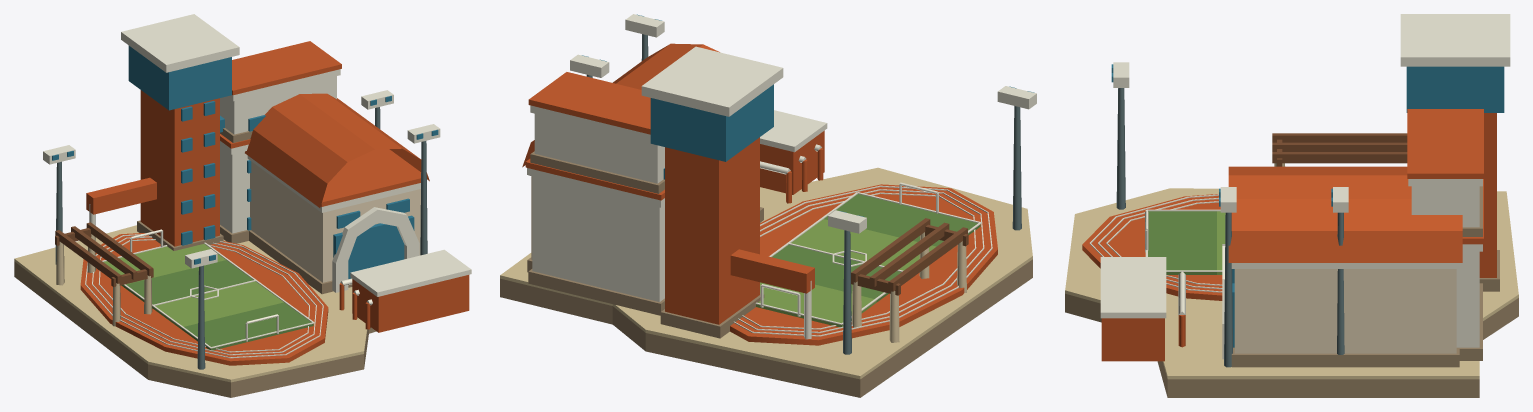
The model's file is training-center-lv5.glb.
3 renders of one model, left to right at view 1: azimuth 30°, elevation 25°; view 2: azimuth 150°, elevation 25°; view 3: azimuth 270°, elevation 25°, orthographic. The views are drawn at different scales.
Visible parts, largest first — view 1: running_track_orange, gym_barrel_roof_orange, coaching_tower_orange, foundation_sand, training_hall_cream, foundation_stoneDark, pitch_grass, observation_canopy_white, pitch_grassLight, equipment_platform_orange, observation_box_glass, performance_upper_floor_roof_orange (+20 smaller); view 2: coaching_tower_orange, foundation_sand, performance_block_white, running_track_orange, foundation_stoneDark, performance_upper_floor_white, observation_canopy_white, observation_box_glass, pitch_grass, pitch_grassLight, performance_upper_floor_roof_orange, coaching_shelter_wood (+15 smaller); view 3: gym_barrel_roof_orange, training_hall_cream, foundation_sand, foundation_stoneDark, observation_canopy_white, performance_upper_floor_roof_orange, observation_box_glass, coaching_shelter_wood, equipment_platform_white, pitch_grass, running_track_orange, training_hall_stoneDark (+10 smaller).
Part boxes in pixels (x1,y1,x2,y2): running_track_orange: (80,233,328,365); gym_barrel_roof_orange: (245,93,429,207); coaching_tower_orange: (140,90,219,246); foundation_sand: (14,225,367,382); training_hall_cream: (250,161,420,282); foundation_stoneDark: (14,261,376,397); pitch_grass: (124,260,313,350); observation_canopy_white: (121,14,239,72); pitch_grassLight: (103,244,283,329); equipment_platform_orange: (352,275,469,332); observation_box_glass: (128,45,231,110); performance_upper_floor_roof_orange: (232,41,341,95); coaching_tower_orange: (665,137,759,324); foundation_sand: (500,167,1032,379); performance_block_white: (528,168,664,301); running_track_orange: (730,184,997,345); foundation_stoneDark: (500,259,1032,397); performance_upper_floor_white: (530,105,664,183); observation_canopy_white: (641,46,783,116); observation_box_glass: (650,84,773,161); pitch_grass: (772,194,980,302); pitch_grassLight: (756,219,935,327); performance_upper_floor_roof_orange: (528,72,650,134); coaching_shelter_wood: (851,218,968,295); gym_barrel_roof_orange: (1228,166,1462,262); training_hall_cream: (1234,269,1456,353); foundation_sand: (1065,188,1518,379); foundation_stoneDark: (1065,293,1518,397); observation_canopy_white: (1400,14,1510,66); performance_upper_floor_roof_orange: (1407,109,1483,178); observation_box_glass: (1406,66,1504,112); coaching_shelter_wood: (1272,133,1407,166); equipment_platform_white: (1100,257,1166,318); pitch_grass: (1148,211,1216,274); running_track_orange: (1082,194,1222,300); training_hall_stoneDark: (1231,347,1459,367).
Size of the model in its own units: 0.9785 by 0.6406 by 1.
